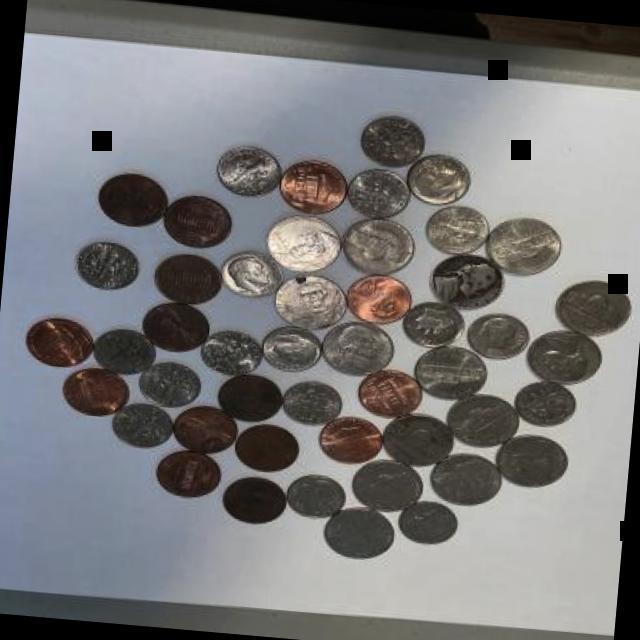Dime: (356, 112, 428, 172), (212, 141, 282, 201), (461, 308, 533, 365), (401, 152, 474, 208), (418, 204, 490, 259), (276, 470, 349, 524), (216, 247, 286, 302), (346, 166, 414, 222), (278, 378, 348, 432), (136, 359, 204, 413), (194, 324, 262, 378), (256, 322, 324, 376), (70, 241, 138, 295), (512, 376, 580, 429), (110, 402, 174, 456), (400, 301, 463, 354), (91, 328, 156, 379), (394, 502, 456, 549)
Nickel: (548, 274, 634, 340), (492, 429, 576, 496), (480, 213, 564, 280), (337, 216, 418, 282), (262, 210, 342, 276), (442, 390, 521, 456), (410, 342, 489, 406), (522, 329, 602, 392), (426, 252, 507, 314), (376, 411, 456, 473), (270, 272, 347, 334), (348, 458, 424, 518), (426, 453, 504, 510), (320, 505, 396, 563), (317, 322, 393, 380)
Penny: (95, 167, 170, 232), (274, 160, 350, 220), (211, 370, 289, 427), (149, 252, 225, 310), (138, 300, 212, 358), (342, 273, 416, 331), (56, 366, 132, 422), (18, 316, 94, 372), (160, 197, 233, 254), (228, 421, 300, 476), (218, 474, 288, 530), (167, 402, 235, 458), (150, 450, 222, 502), (354, 369, 418, 424), (314, 418, 382, 468)
